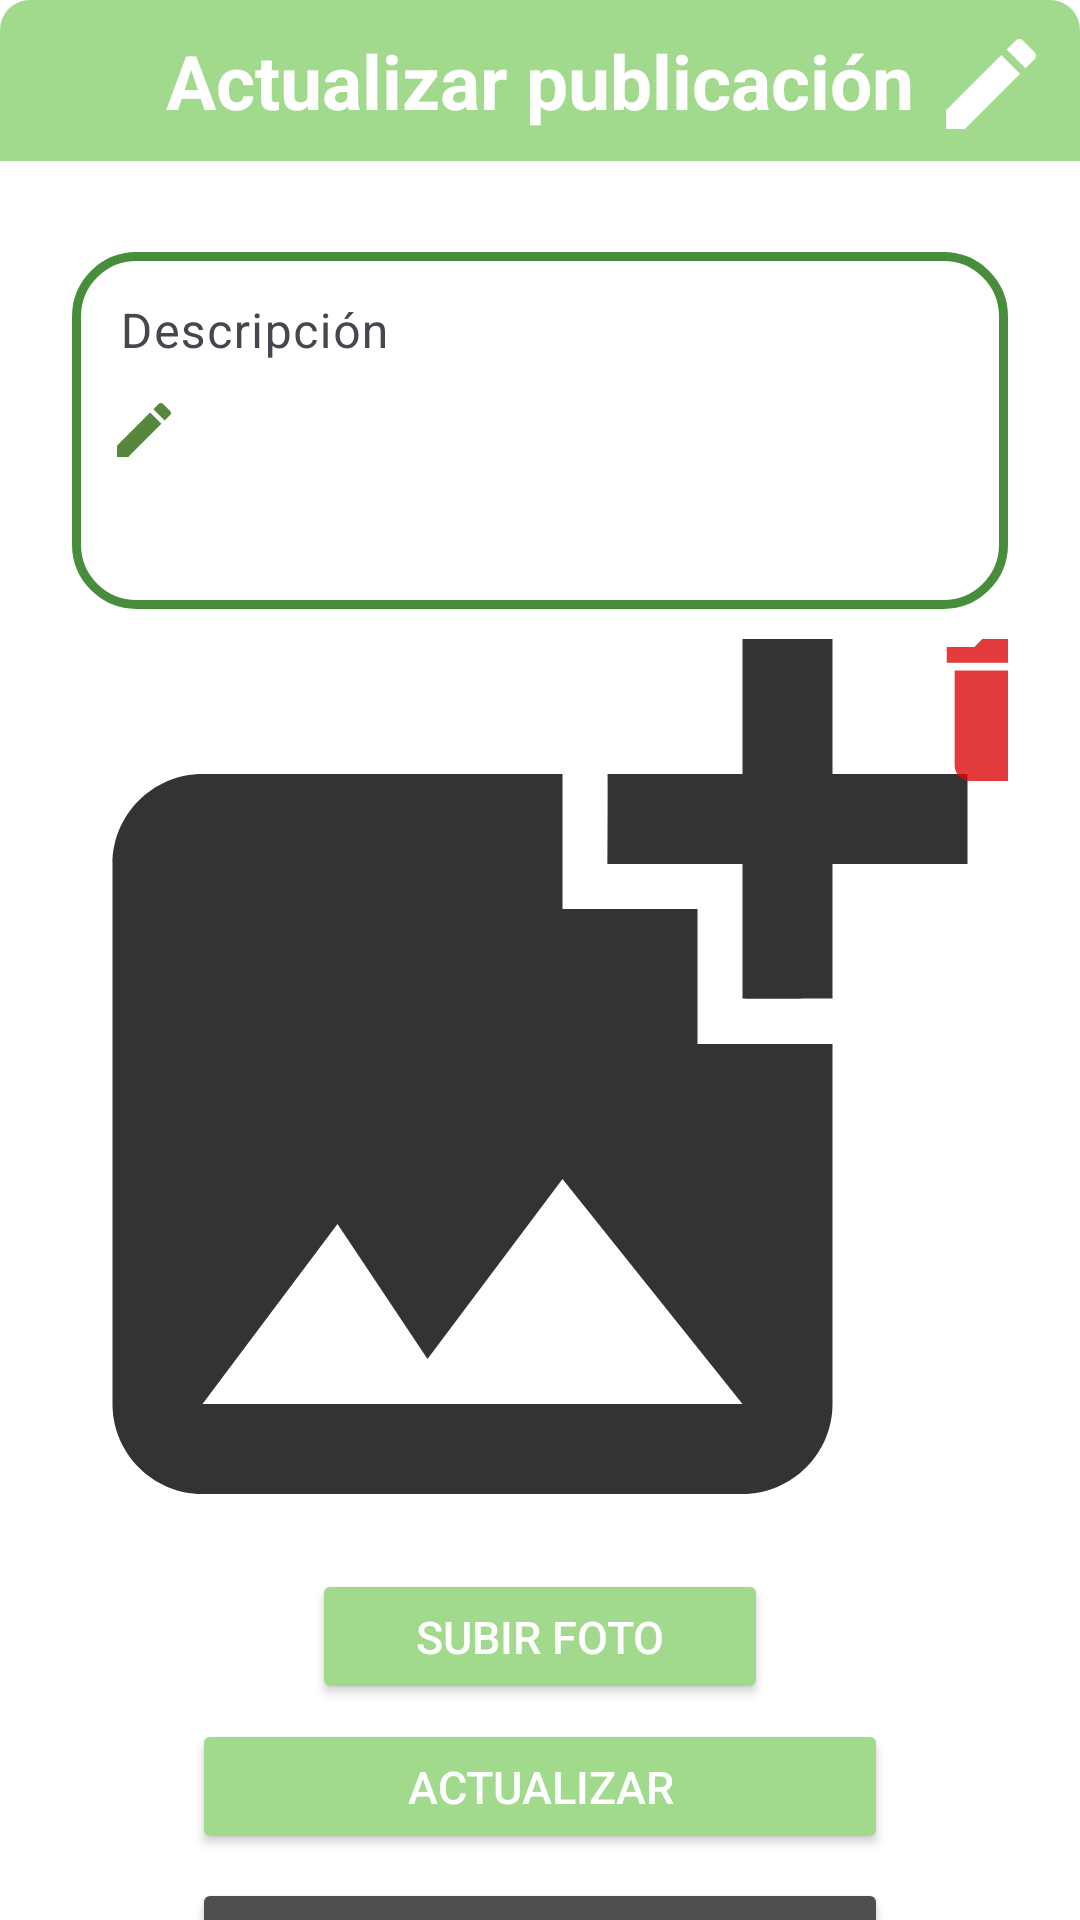

Screen size 1080w x 1920h. Icon name, then its box in pixels as box(x1, y1, x2, y2):
create: box(946, 39, 1036, 129)
